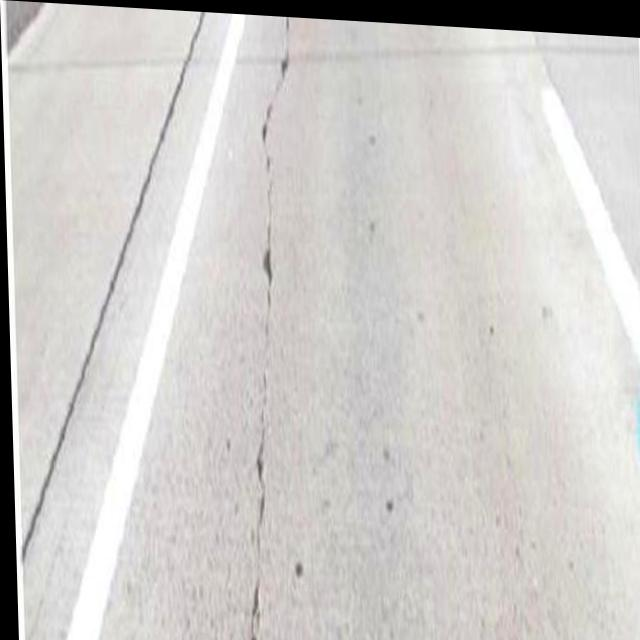Crack: (233, 11, 309, 640)
